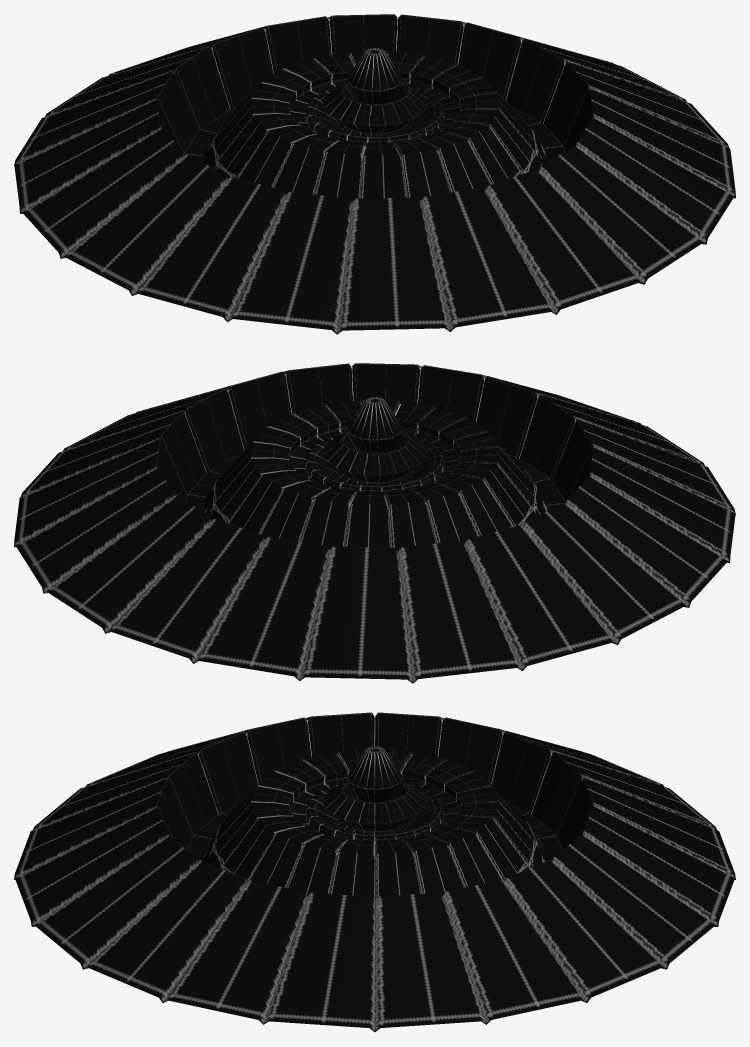
File: m_arena_ground.fbx
The picture shows the model from 3 angles, top to bottom: view 1: azimuth 30°, elevation 25°; view 2: azimuth 150°, elevation 25°; view 3: azimuth 270°, elevation 25°; orthographic projection.
Parts seen in each view (by area): view 1: polySurface165; view 2: polySurface165; view 3: polySurface165.
Boxes of the visible parts, left/top/right/bottom form: polySurface165: left=14, top=14, right=735, bottom=334; polySurface165: left=14, top=363, right=735, bottom=683; polySurface165: left=14, top=712, right=735, bottom=1031.
Size of the model in its own units: 325 by 76.09 by 325.
1 material, 1 textured.
